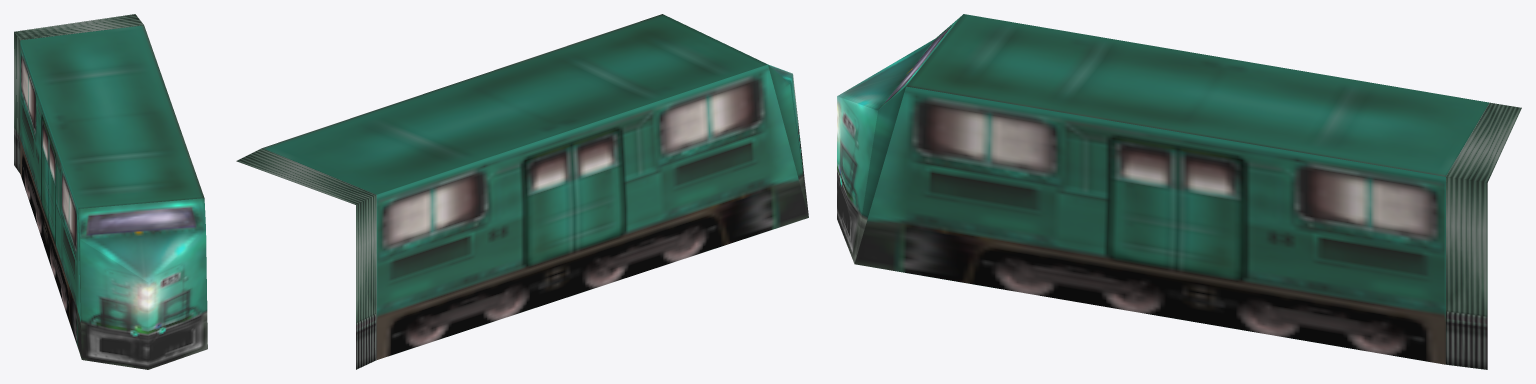
Rendered from Train01.glb.
3 renders of one model, left to right at view 1: azimuth 30°, elevation 25°; view 2: azimuth 150°, elevation 25°; view 3: azimuth 270°, elevation 25°, orthographic. The views are drawn at different scales.
Parts seen in each view (by area): view 1: Train01; view 2: Train01; view 3: Train01.
Boxes of the visible parts, x1,y1,x2,y2 form: Train01: (14, 14, 207, 369); Train01: (236, 14, 808, 369); Train01: (837, 14, 1521, 369).
Size of the model in its own units: 1095 by 545 by 1790.
Materials: 2 (2 with a texture image).
